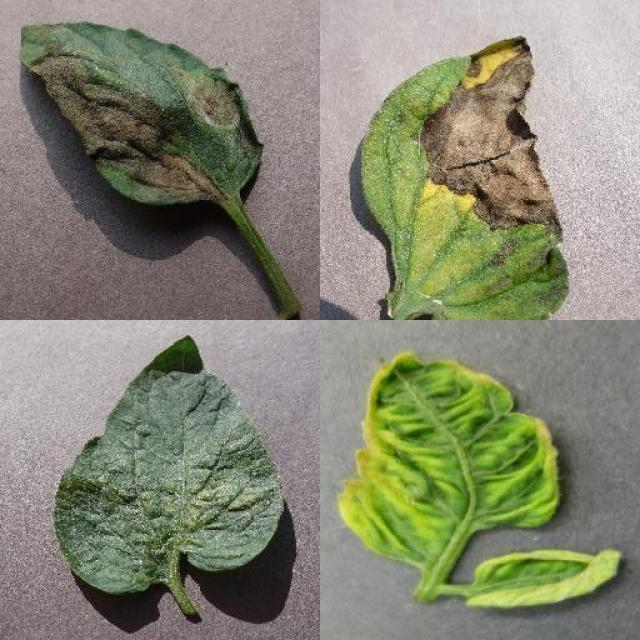Late Blight: (360, 35, 570, 320), (20, 18, 266, 208)
